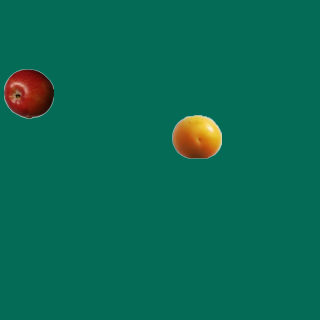Apple Braeburn: (3, 68, 53, 118)
Cherry Wax Yellow: (171, 111, 221, 161)
